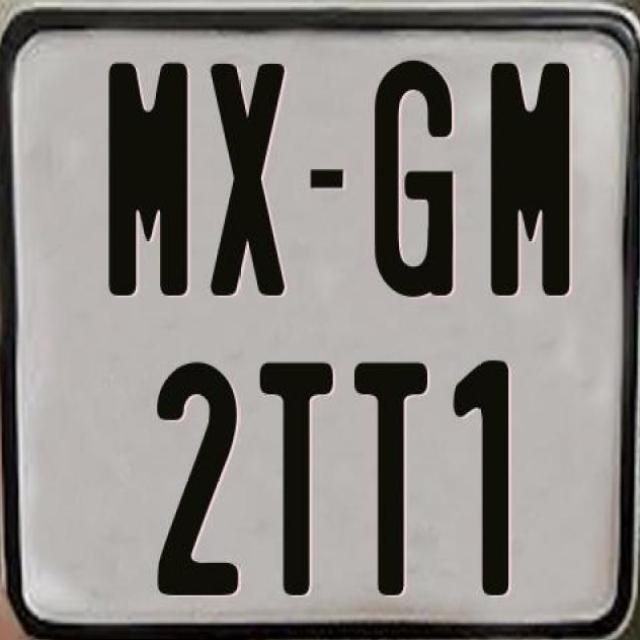license-plate: (1, 0, 630, 640)
